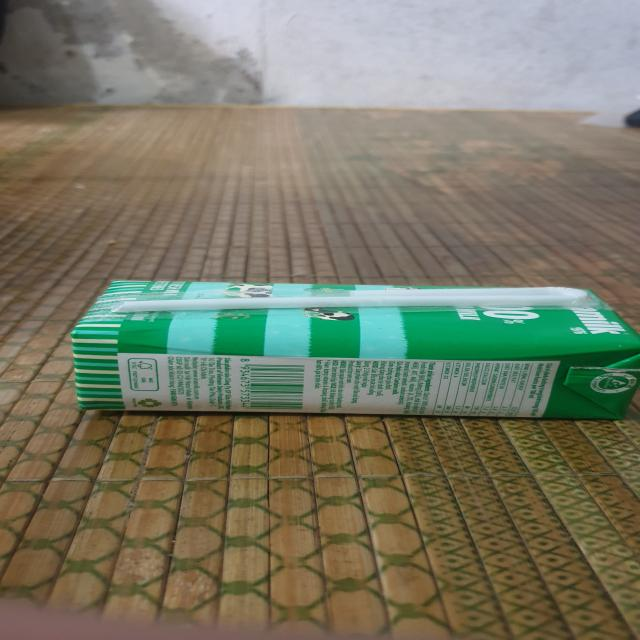Vina: (71, 285, 640, 420)
